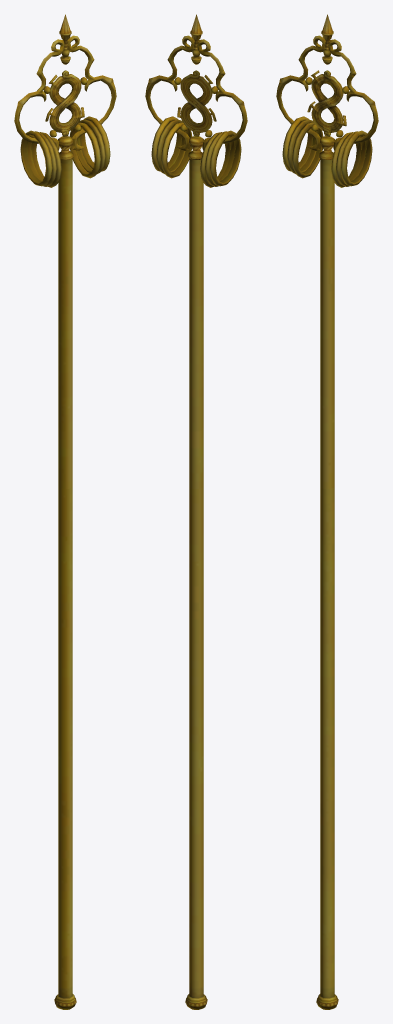
The model's file is Weapon.fbx.
3 views of the same model, side by side, from view 1: azimuth 30°, elevation 25°; view 2: azimuth 150°, elevation 25°; view 3: azimuth 330°, elevation 25° (orthographic).
Visible parts, largest first — view 1: 24_+weaponR.weaponR_1_0_0; view 2: 24_+weaponR.weaponR_1_0_0; view 3: 24_+weaponR.weaponR_1_0_0.
Part boxes in pixels (<box>): 24_+weaponR.weaponR_1_0_0: <box>14,14,116,1009</box>; 24_+weaponR.weaponR_1_0_0: <box>145,14,247,1009</box>; 24_+weaponR.weaponR_1_0_0: <box>276,14,378,1009</box>.
Size of the model in its own units: 134 by 1245 by 65.46.
Materials: 1 (1 with a texture image).
